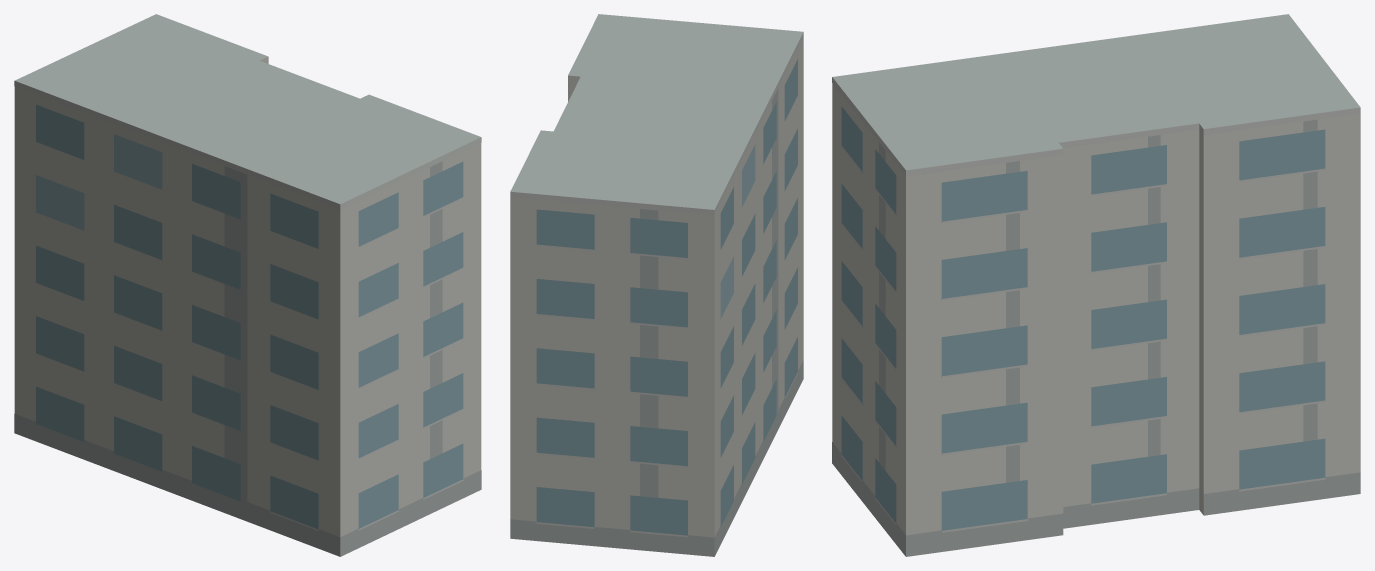
Rendered from survey-upis-33018012.glb.
3 renders of one model, left to right at view 1: azimuth 30°, elevation 25°; view 2: azimuth 150°, elevation 25°; view 3: azimuth 270°, elevation 25°, orthographic. The views are drawn at different scales.
Visible parts, largest first — view 1: survey-upis-33018012.tmp; view 2: survey-upis-33018012.tmp; view 3: survey-upis-33018012.tmp.
Boxes of the visible parts, x1,y1,x2,y2 form: survey-upis-33018012.tmp: (14, 14, 481, 556); survey-upis-33018012.tmp: (510, 14, 803, 556); survey-upis-33018012.tmp: (832, 14, 1360, 556).
Size of the model in its own units: 13.25 by 15.25 by 18.91.
